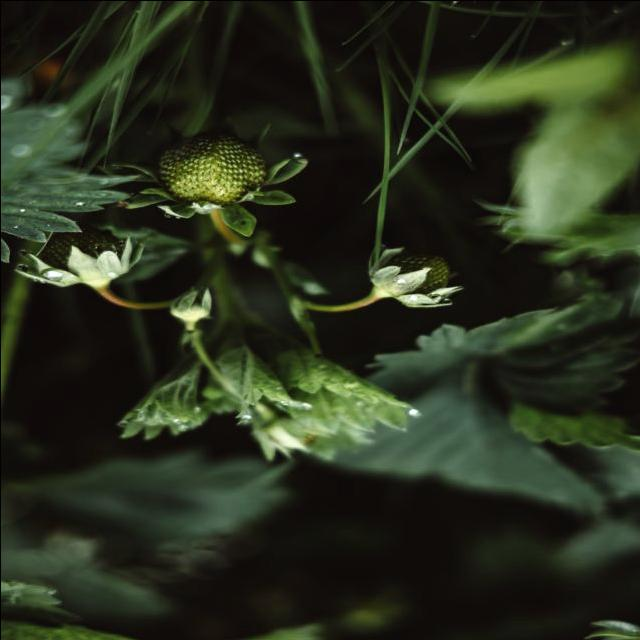unripe: (143, 130, 278, 220), (350, 245, 464, 318), (27, 225, 128, 282)
